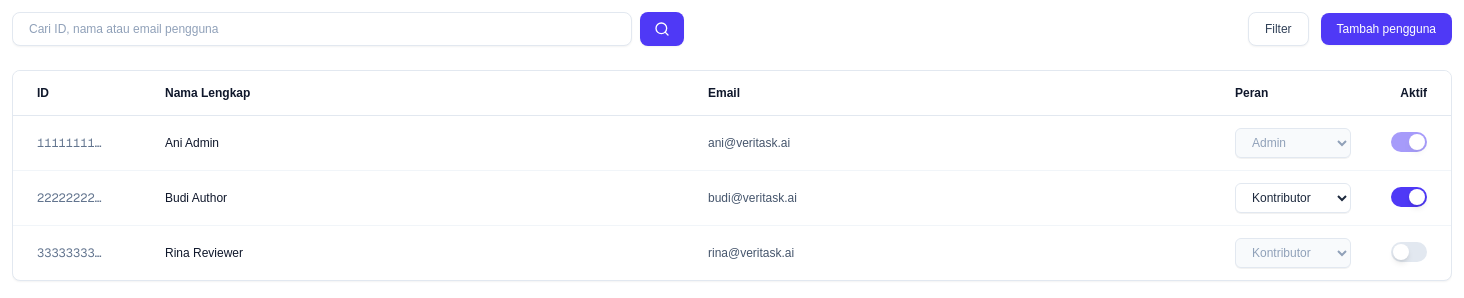
Test case: AdminMembersPage, existing paths › searches by name
Expected: the text "Ani Admin" is shown, [157, 116, 684, 170]
Type "BUDI" into the field with placeholder "Cari ID, nama atau email pengguna" at (322, 29), box [12, 12, 632, 46]
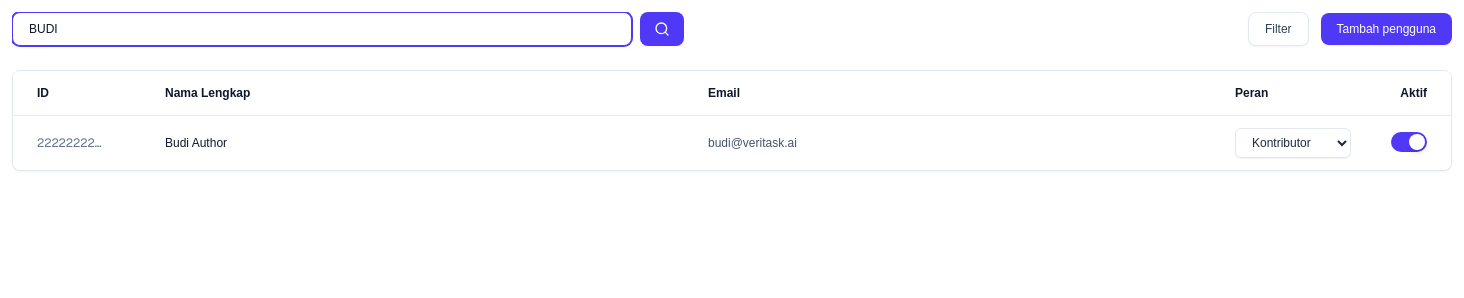
Expected: the text "Budi Author" is shown, [157, 116, 684, 170]
Result: the text "Ani Admin" is gone
